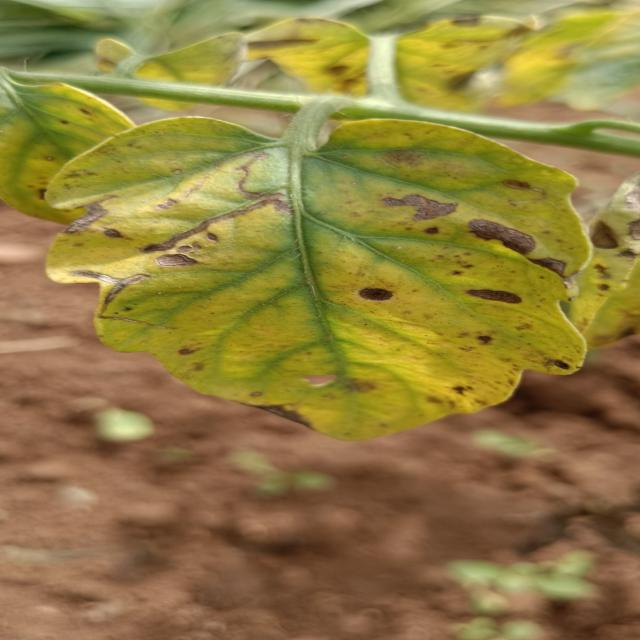tomato_early blight: (60, 115, 607, 438), (0, 71, 189, 235), (527, 176, 640, 344), (376, 13, 558, 104), (248, 16, 381, 106)
